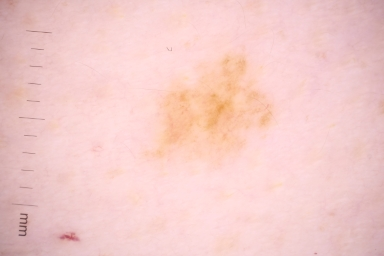melanoma: (147, 59, 274, 167)
